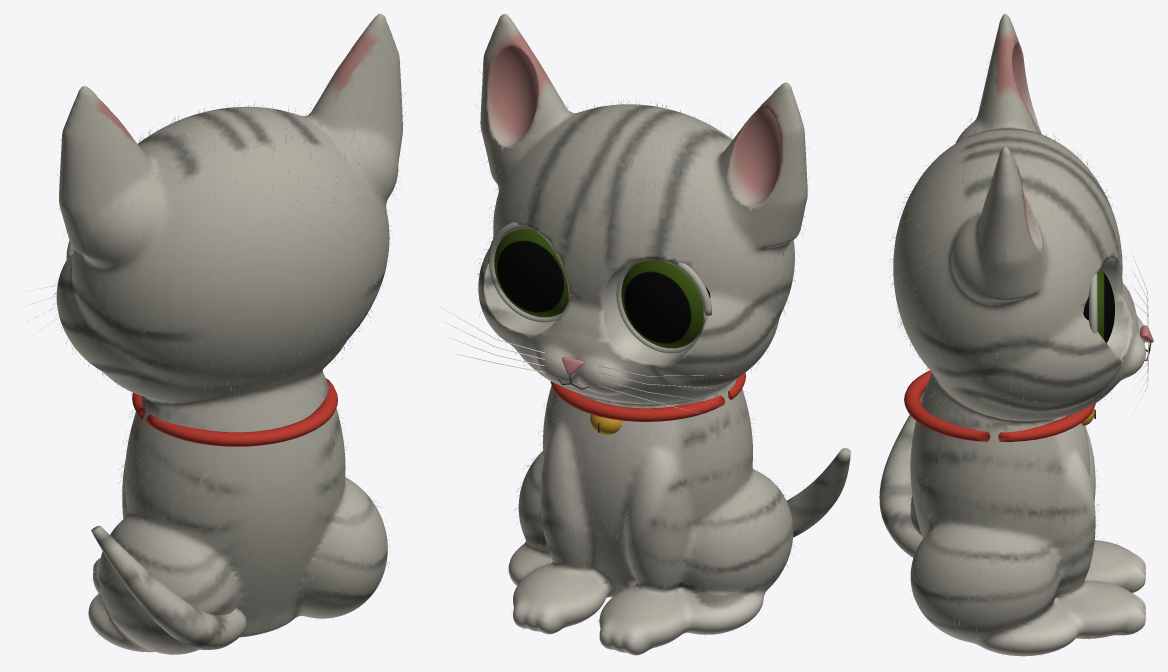
The model's file is silverbelt_driver.glb.
3 renders of one model, left to right at view 1: azimuth 30°, elevation 25°; view 2: azimuth 150°, elevation 25°; view 3: azimuth 270°, elevation 25°, orthographic. The views are drawn at different scales.
Parts seen in each view (by area): view 1: Continuous feline anatomy, Curled tail, Red collar, Groomed short fur; view 2: Continuous feline anatomy, Curved inset eye.001, Curved inset eye, Red collar, Curled tail, Soft anatomical eyelid.001, Groomed short fur, Soft anatomical eyelid; view 3: Continuous feline anatomy, Curled tail, Red collar, Groomed short fur, Curved inset eye, Soft anatomical eyelid.
Part boxes in pixels (x1,y1,x2,y2): Continuous feline anatomy: (56,14,402,654); Curled tail: (91,525,247,649); Red collar: (132,378,337,446); Groomed short fur: (51,49,406,656); Continuous feline anatomy: (478,14,807,655); Curved inset eye.001: (621,259,710,348); Curved inset eye: (494,228,568,317); Red collar: (550,372,745,421); Curled tail: (787,448,850,537); Soft anatomical eyelid.001: (616,259,711,353); Groomed short fur: (475,67,809,651); Soft anatomical eyelid: (487,222,562,322); Continuous feline anatomy: (893,14,1145,656); Curled tail: (879,390,924,557); Red collar: (904,370,1095,441); Groomed short fur: (890,60,1145,655); Curved inset eye: (1083,269,1114,342); Soft anatomical eyelid: (1089,273,1097,333).
Bounding box in the file's own units: 0.9753 × 1.54 × 0.7154.
Materials: 8 (2 with a texture image).
